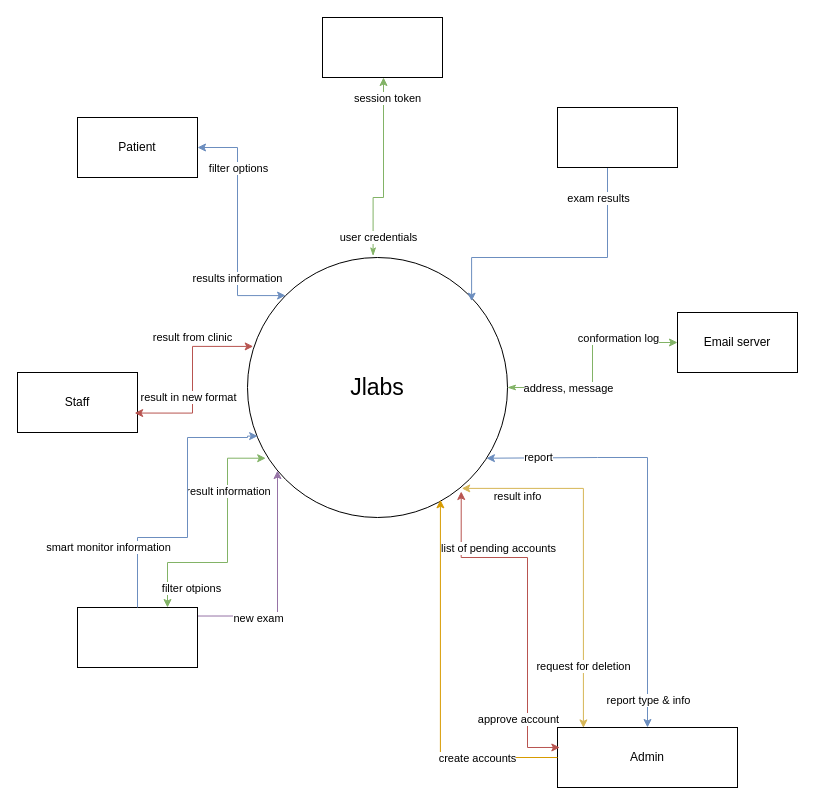
Some shapes in this 815 by 805 pixel diagram are drawn without their labels. The centre of each missing label's shape, as x and y in pixels:
Authentication / Authorization server: the point at 382,47
Doctor: the point at 137,637
Other clinics: the point at 617,137
